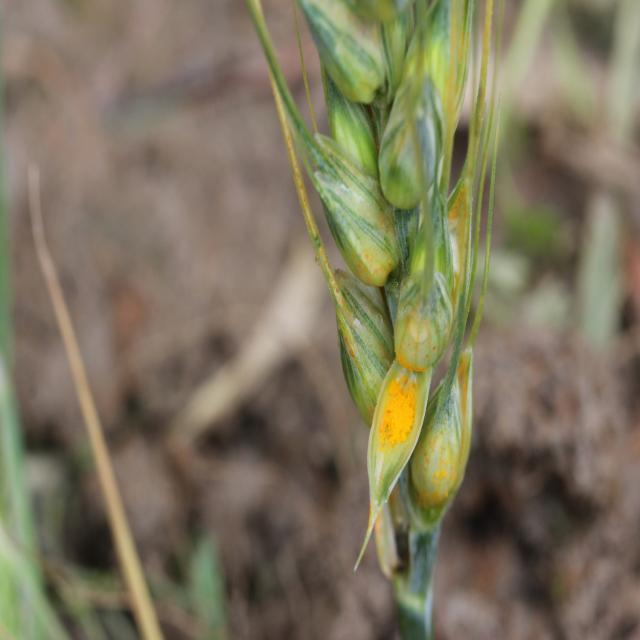Yellow_Rust: (354, 364, 433, 571), (407, 345, 472, 520)
